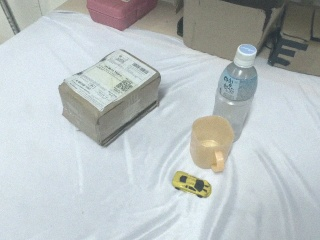bottle: (212, 43, 260, 138)
box: (59, 48, 161, 148), (181, 1, 286, 63), (267, 2, 320, 78)
cup: (189, 116, 234, 172)
toy_car: (172, 170, 212, 197)
